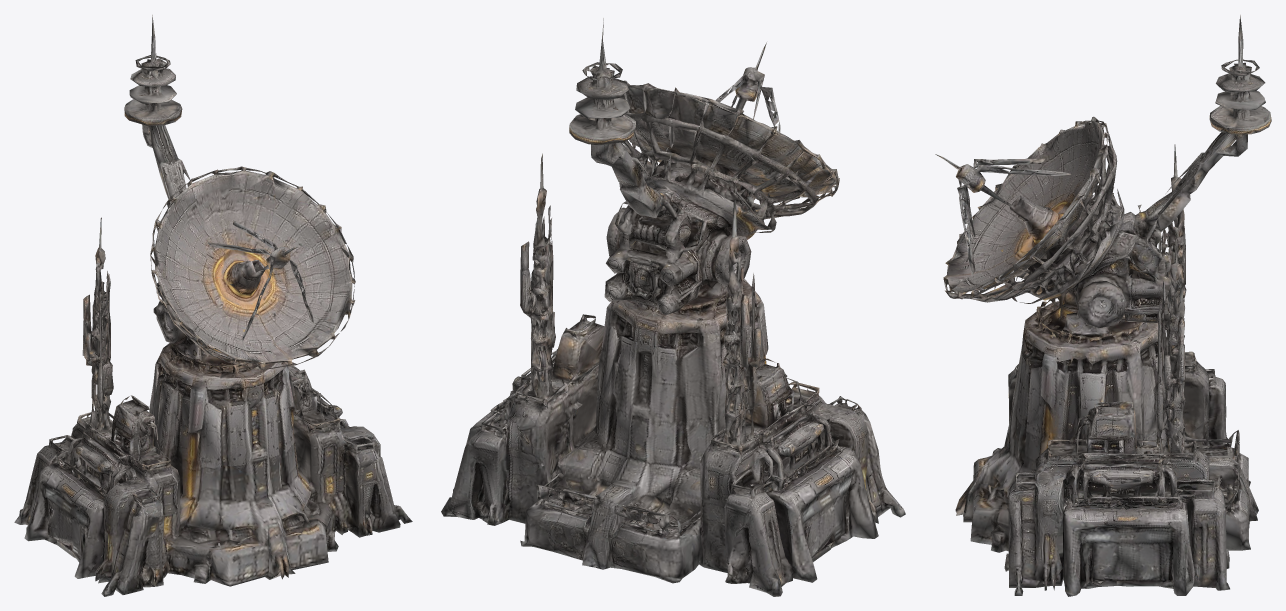
The model's file is radar.glb.
3 renders of one model, left to right at view 1: azimuth 30°, elevation 25°; view 2: azimuth 150°, elevation 25°; view 3: azimuth 270°, elevation 25°, orthographic. The views are drawn at different scales.
Size of the model in its own units: 1.32 by 1.9 by 1.16.
Materials: 1 (1 with a texture image).
